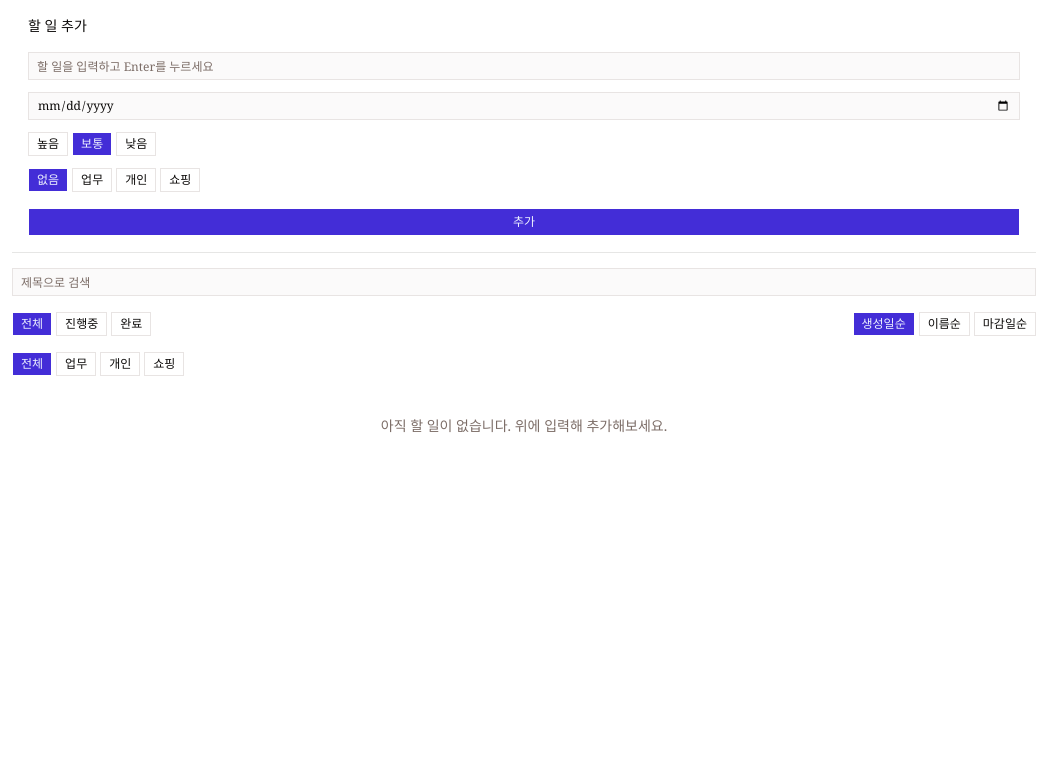
Test: Todo 검색 › '회의' 검색 → '회의' 포함 항목만 표시된다
This screenshot has width=1048, height=768.
Type "회의 준비" into the field named "새 할 일".
click(524, 66); type("회의 준비")  # box left=28, top=52, right=1020, bottom=80
Then press Enter
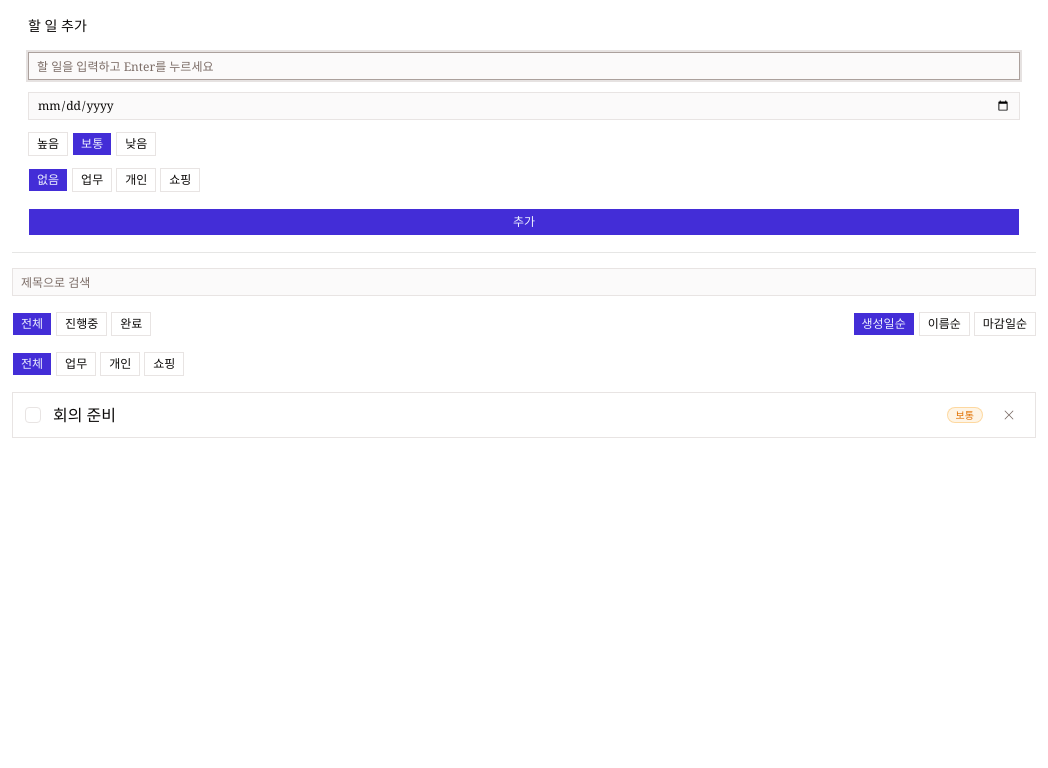
Type "장보기" into the field named "새 할 일".
click(524, 66); type("장보기")  # box left=28, top=52, right=1020, bottom=80
Then press Enter
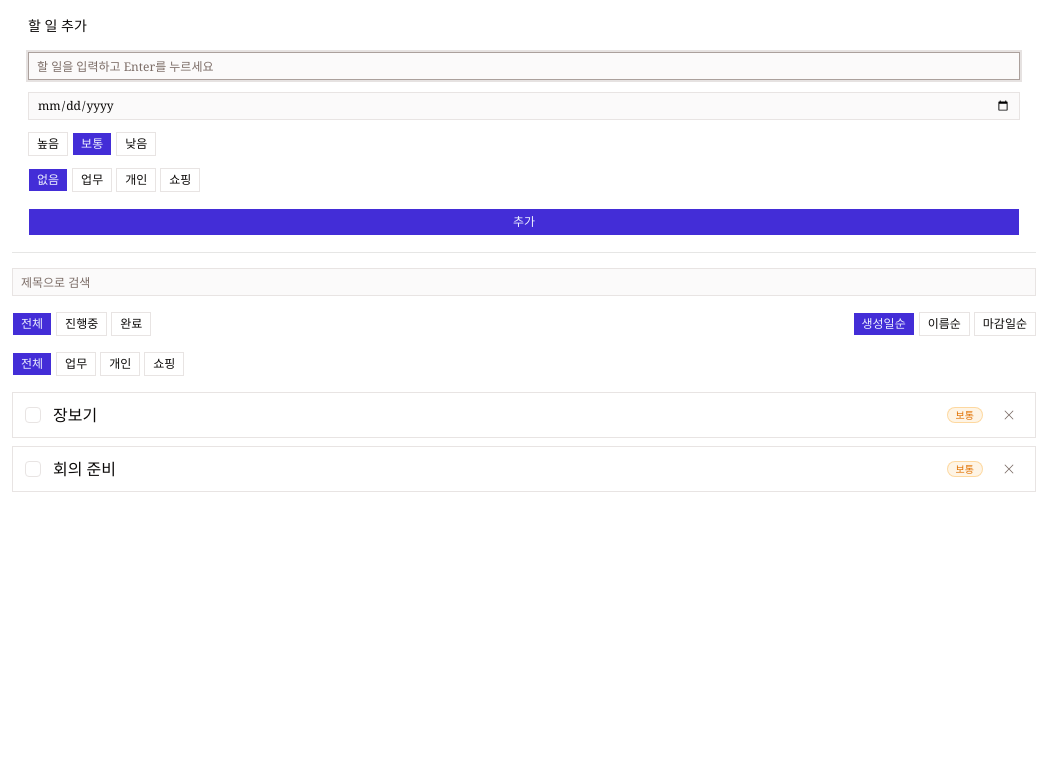
Type "팀 회의" into the field named "새 할 일".
click(524, 66); type("팀 회의")  # box left=28, top=52, right=1020, bottom=80
Then press Enter
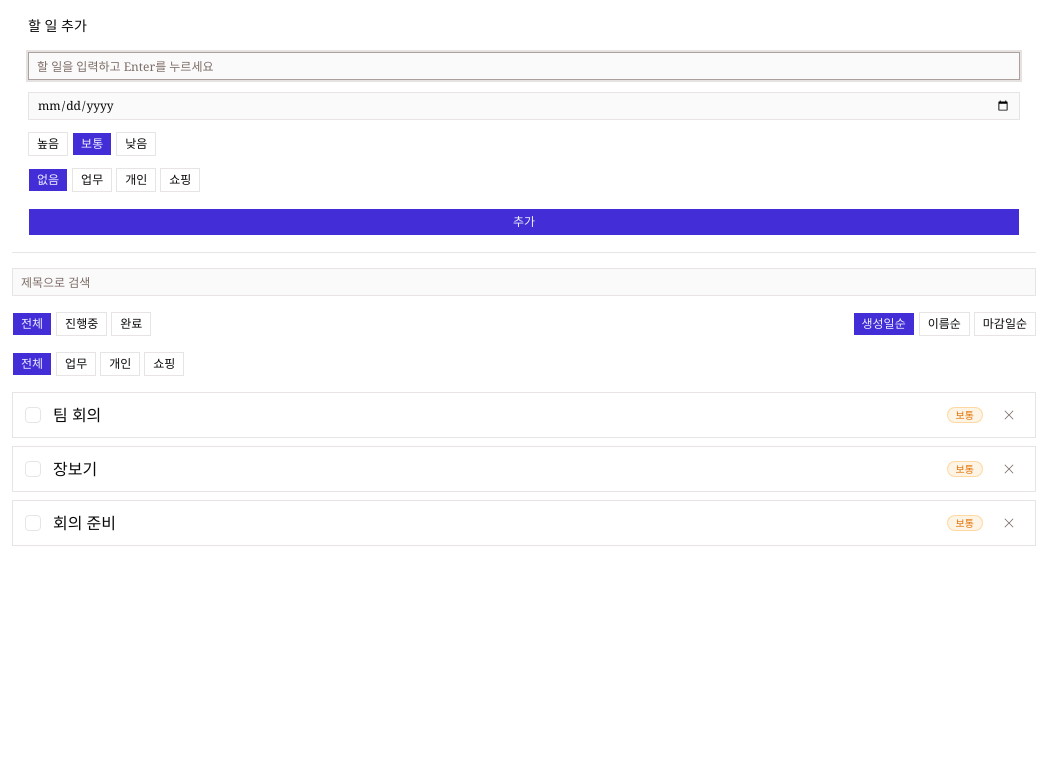
Expected: the text "팀 회의" is shown, left=53, top=404, right=101, bottom=426
Type "회의" into the search field labelled "검색".
click(524, 282); type("회의")  # box left=12, top=268, right=1036, bottom=296
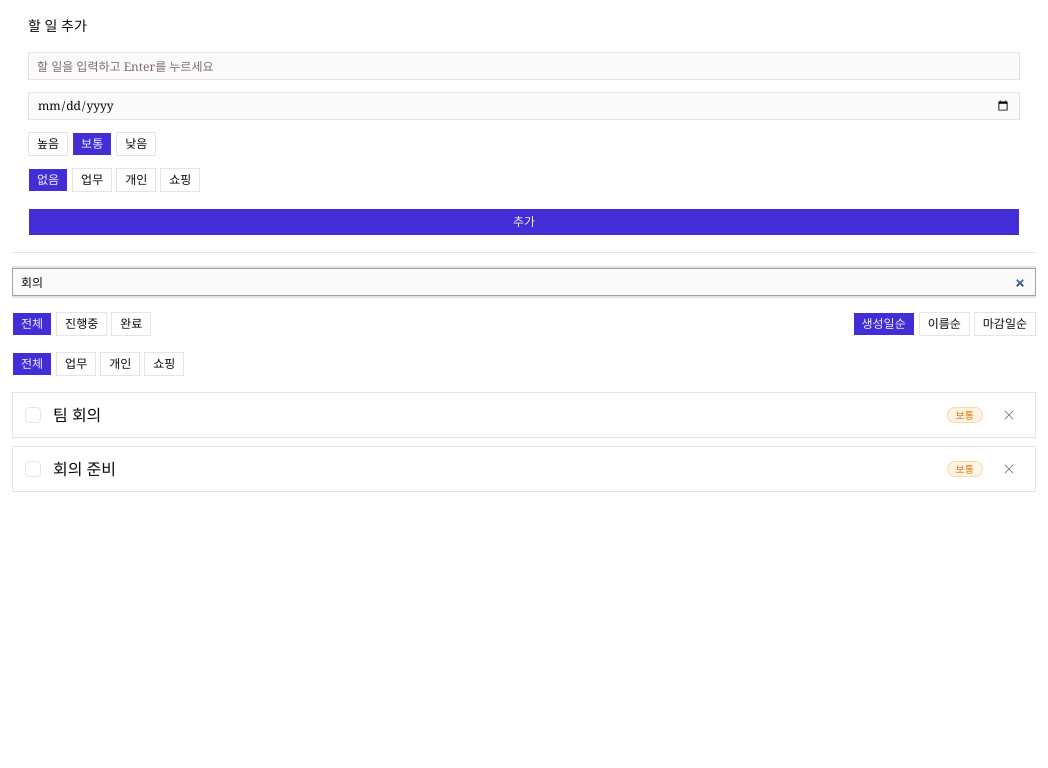
Expected: the text "회의 준비" is shown, left=53, top=458, right=116, bottom=480
Expected: the text "팀 회의" is shown, left=53, top=404, right=101, bottom=426
Expected: the text "장보기" is gone
